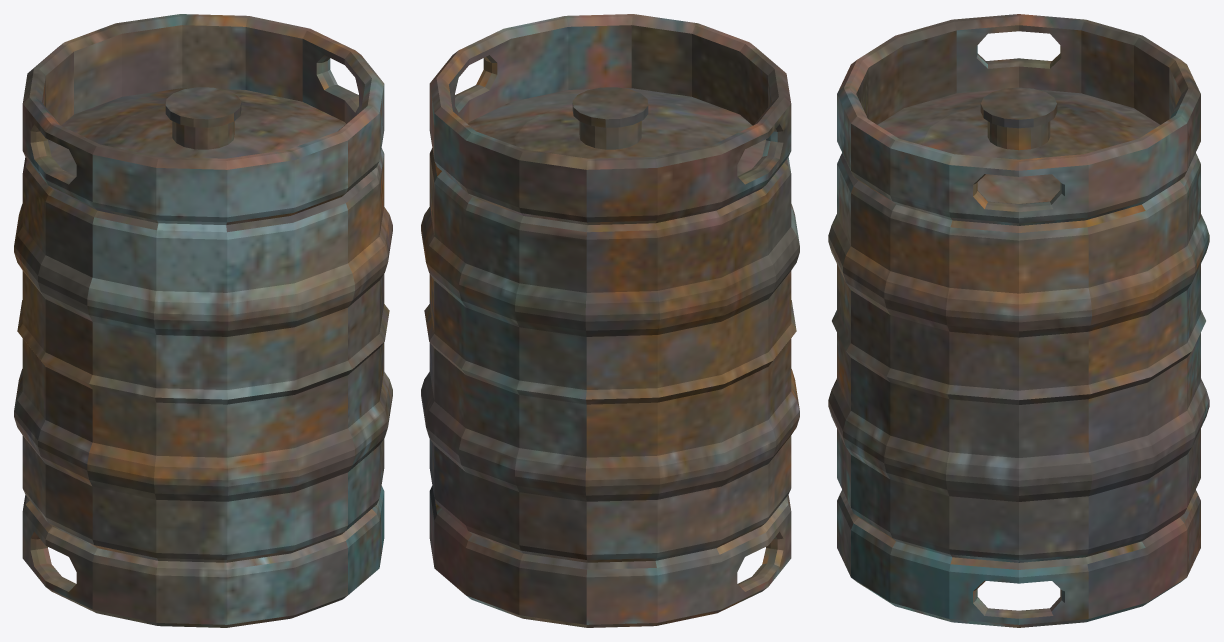
File: keg.fbx
The picture shows the model from 3 angles, left to right: view 1: azimuth 30°, elevation 25°; view 2: azimuth 150°, elevation 25°; view 3: azimuth 270°, elevation 25°; orthographic projection.
Parts seen in each view (by area): view 1: keg; view 2: keg; view 3: keg.
Part boxes in pixels (x1,y1,x2,y2): keg: (14, 14, 392, 627); keg: (421, 14, 799, 627); keg: (828, 14, 1209, 627).
Bounding box in the file's own units: 135 × 182 × 135.
